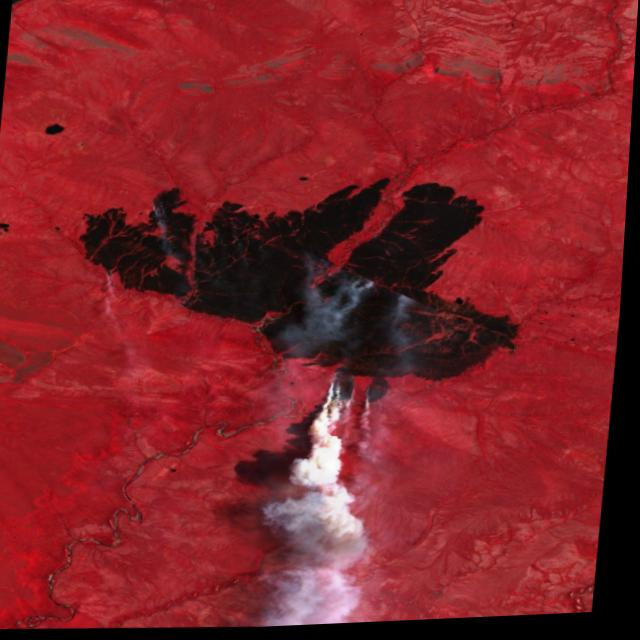fire: (313, 364, 411, 420), (143, 192, 187, 240)
